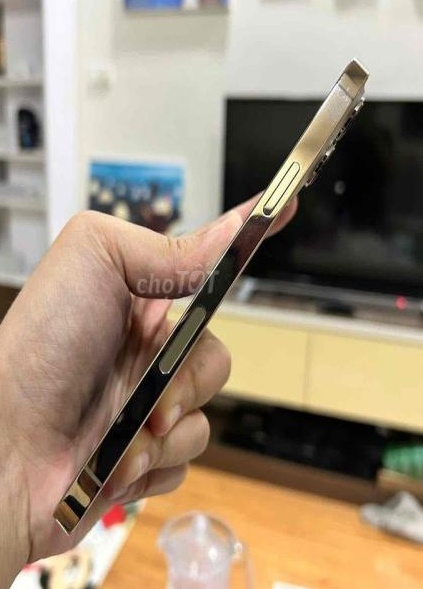scratch: (326, 75, 361, 133)
